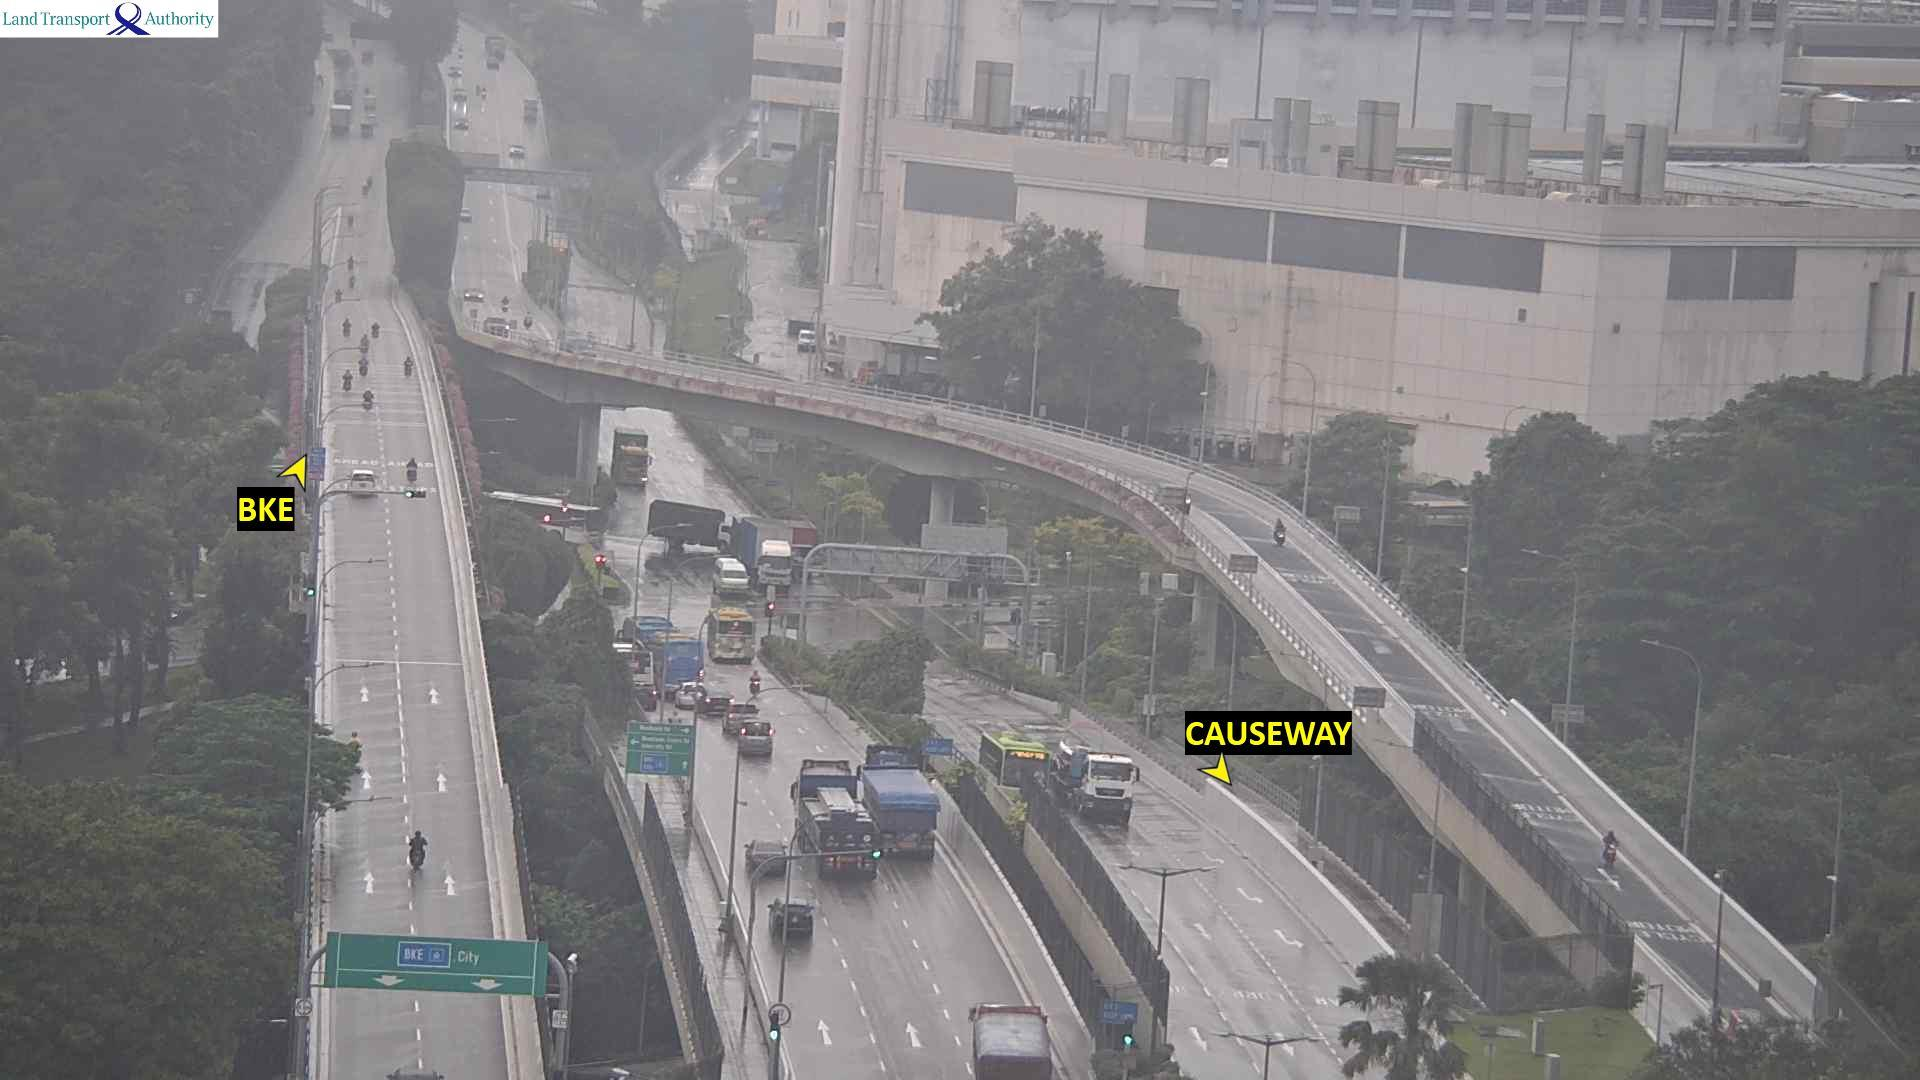vehicle-causeway-johor: (983, 731, 1047, 792), (653, 500, 730, 548), (739, 517, 789, 587), (1063, 751, 1132, 801), (789, 520, 816, 574), (618, 427, 642, 478), (1160, 483, 1191, 512), (1600, 829, 1619, 864), (1271, 518, 1286, 546), (486, 317, 509, 333), (459, 292, 477, 309), (460, 205, 472, 221), (503, 296, 510, 309), (525, 313, 531, 326)
vehicle-causeway-singapore: (852, 768, 939, 845), (971, 1010, 1066, 1080), (799, 810, 881, 857), (799, 769, 869, 807), (649, 641, 704, 685), (817, 852, 886, 879), (779, 899, 815, 938), (727, 718, 777, 745), (711, 636, 754, 664), (749, 851, 789, 881), (668, 685, 708, 710), (385, 1069, 452, 1080), (736, 739, 770, 760), (408, 832, 425, 868), (347, 472, 372, 488), (407, 463, 424, 481), (403, 357, 414, 376), (362, 361, 374, 378), (363, 390, 373, 409), (371, 321, 381, 336), (752, 672, 759, 693), (344, 369, 350, 390), (347, 253, 354, 270), (343, 316, 349, 335), (349, 276, 358, 287), (335, 288, 342, 301)
